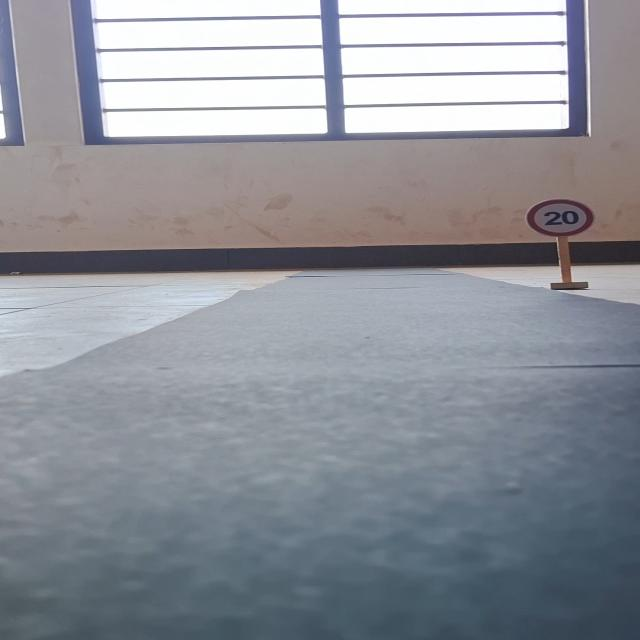Speed20: (520, 198, 602, 240)
